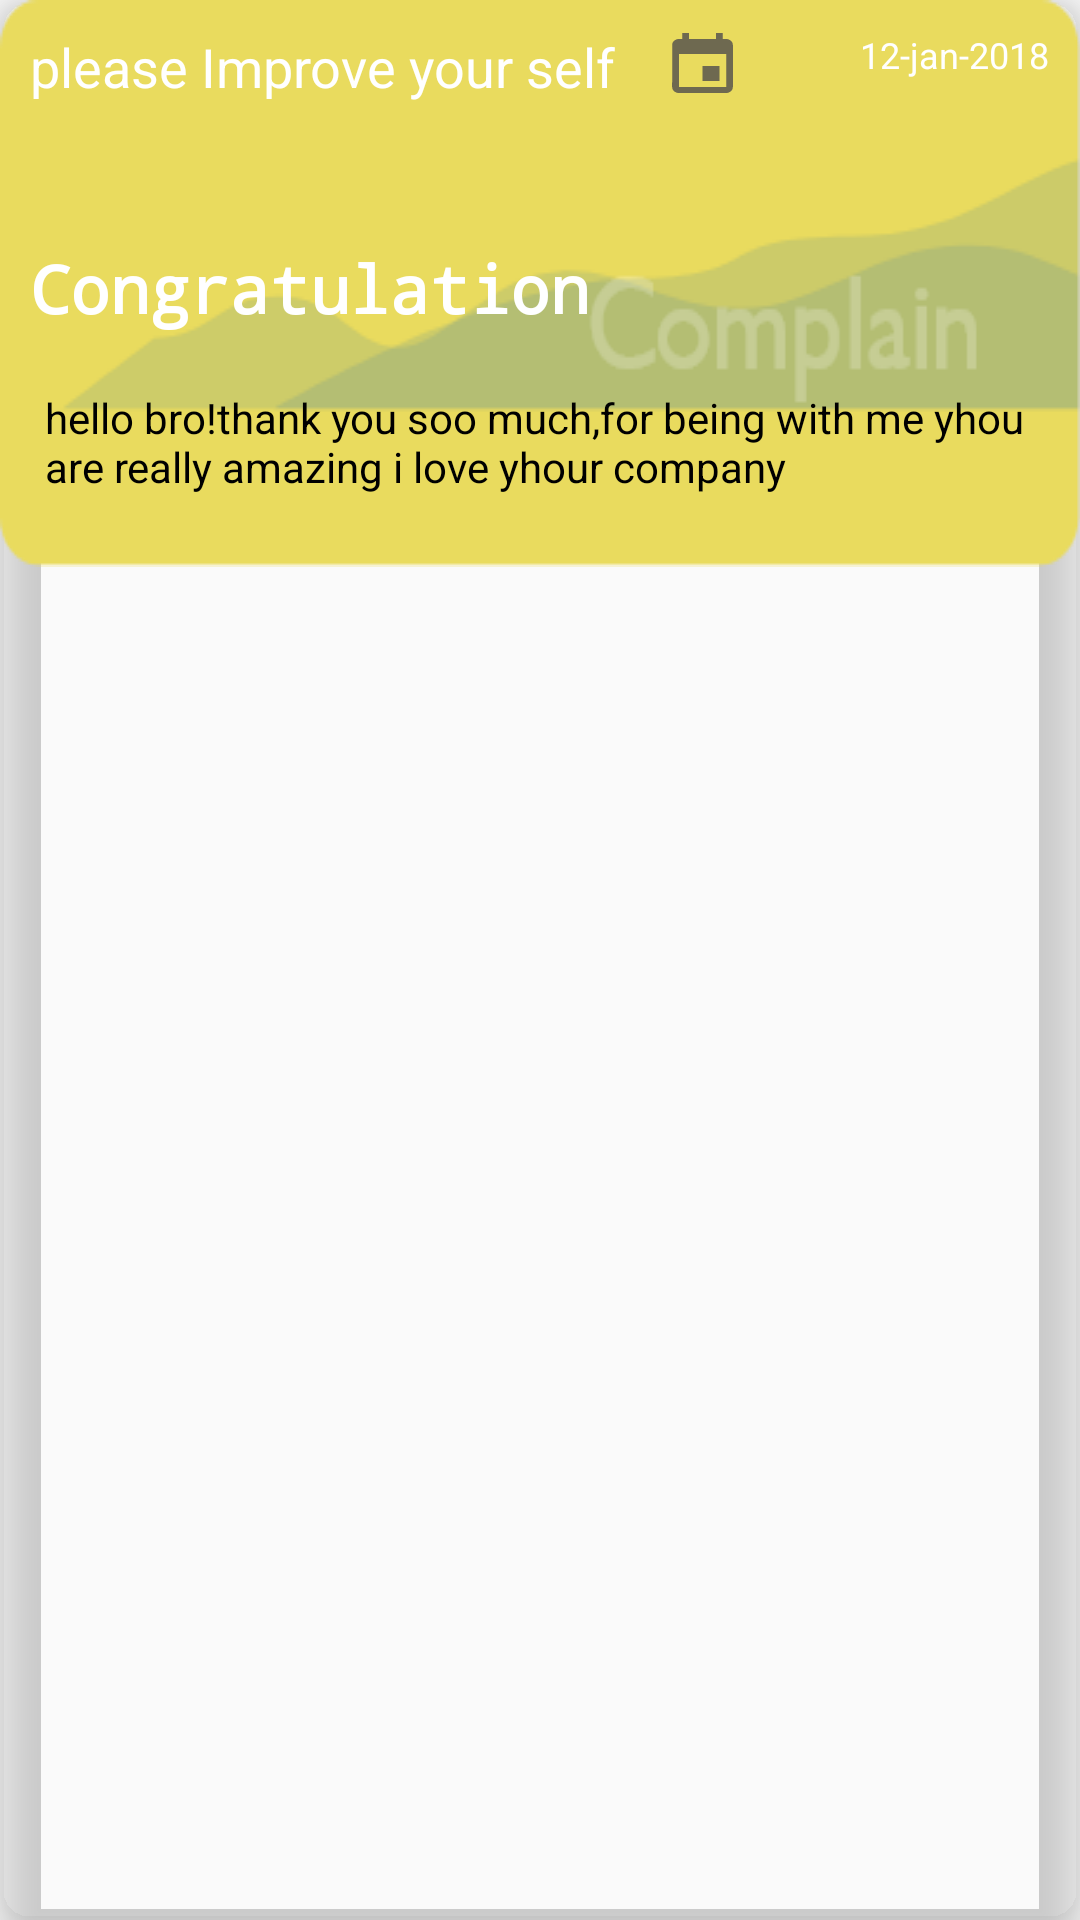

Icons on this 1080*1920 Android screen, each with its box as (x1, y1, x2, y2):
date: (672, 33, 733, 93)
